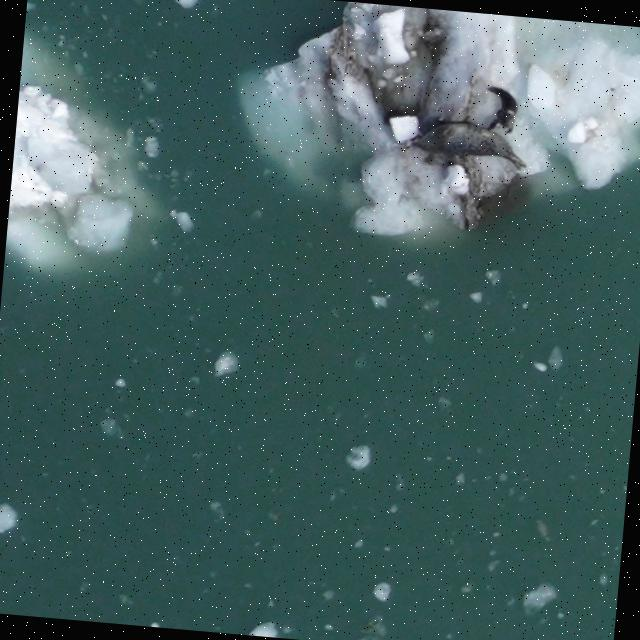seal: (406, 112, 537, 174), (481, 83, 521, 135)
